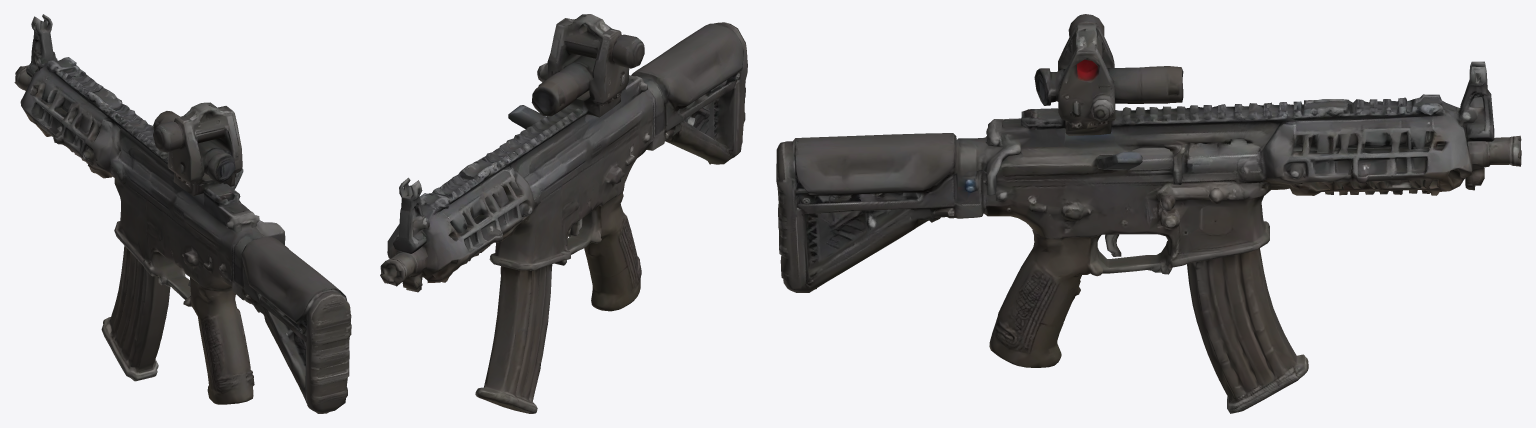
File: rifle.glb
The picture shows the model from 3 angles, left to right: view 1: azimuth 30°, elevation 25°; view 2: azimuth 150°, elevation 25°; view 3: azimuth 270°, elevation 25°; orthographic projection. The views are drawn at different scales.
Parts seen in each view (by area): view 1: tripo_node_80e9302f-74a0-46b0-8f9b-f09702eaacea; view 2: tripo_node_80e9302f-74a0-46b0-8f9b-f09702eaacea; view 3: tripo_node_80e9302f-74a0-46b0-8f9b-f09702eaacea.
Boxes of the visible parts, x1=… form: tripo_node_80e9302f-74a0-46b0-8f9b-f09702eaacea: x1=14, y1=14, x2=351, y2=413; tripo_node_80e9302f-74a0-46b0-8f9b-f09702eaacea: x1=380, y1=14, x2=747, y2=413; tripo_node_80e9302f-74a0-46b0-8f9b-f09702eaacea: x1=776, y1=14, x2=1521, y2=413.
Bounding box in the file's own units: 0.1846 × 0.5649 × 1.
Materials: 1 (1 with a texture image).
